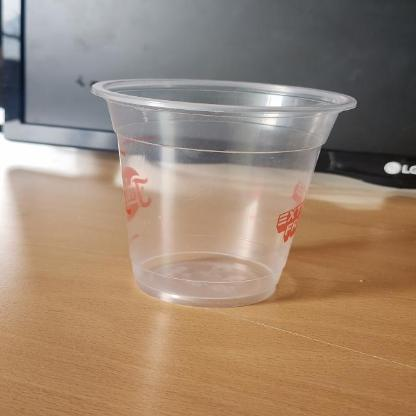Plastic Cup: (90, 76, 358, 308)
